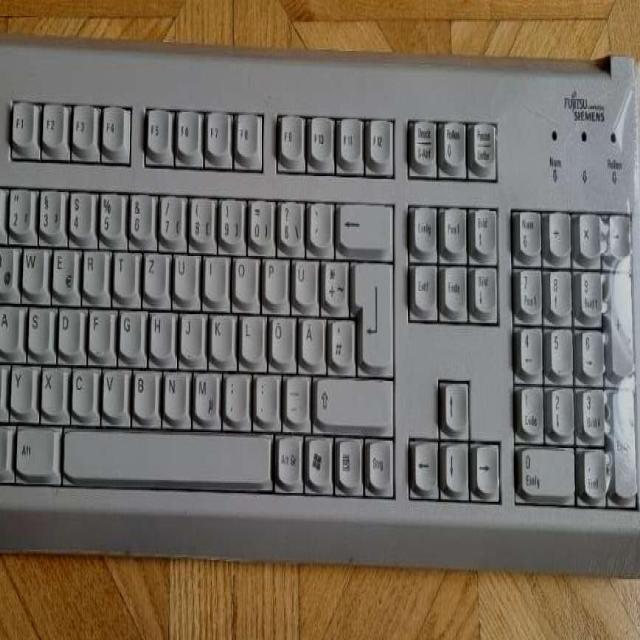0: (247, 193, 272, 246)
1: (0, 182, 13, 231)
2: (7, 183, 32, 233)
3: (37, 185, 62, 236)
4: (67, 186, 92, 237)
5: (97, 188, 122, 237)
6: (127, 188, 152, 239)
7: (157, 189, 183, 242)
8: (187, 191, 213, 245)
9: (217, 194, 243, 245)
a: (0, 300, 18, 349)
accent: (306, 196, 330, 246)
ae: (297, 311, 322, 364)
alt-left: (13, 419, 58, 476)
altgr-right: (273, 429, 301, 483)
b: (131, 364, 156, 416)
c: (69, 362, 94, 413)
caret: (0, 179, 12, 228)
comma: (221, 367, 248, 421)
d: (56, 301, 80, 354)
del: (336, 197, 390, 248)
e: (50, 243, 75, 294)
enter: (350, 253, 391, 368)
f: (87, 303, 111, 354)
g: (117, 304, 142, 355)
h: (147, 305, 172, 355)
hash: (327, 313, 353, 367)
i: (202, 250, 226, 298)
j: (178, 307, 202, 356)
k: (208, 308, 232, 358)
keyboard: (0, 39, 640, 553)
l: (238, 310, 262, 361)
less: (0, 358, 13, 412)
m: (192, 367, 218, 421)
minus: (282, 369, 308, 422)
n: (162, 365, 187, 416)
o: (231, 252, 256, 303)
oe: (268, 310, 293, 362)
p: (261, 253, 285, 301)
plus: (320, 253, 346, 308)
point: (252, 368, 277, 420)
q: (0, 240, 15, 292)
r: (80, 245, 105, 293)
s: (25, 301, 49, 352)
shift-left: (0, 358, 16, 410)
shift-lock: (0, 297, 24, 352)
shift-right: (313, 371, 390, 425)
space: (59, 424, 272, 482)
ss: (276, 195, 301, 247)
strg-left: (0, 416, 22, 473)
strg-right: (363, 434, 392, 492)
t: (112, 246, 136, 295)
tab: (0, 239, 19, 290)
u: (172, 249, 196, 298)
ue: (291, 253, 316, 304)
v: (100, 364, 125, 415)
w: (20, 241, 43, 291)
x: (39, 361, 63, 412)
y: (8, 359, 32, 410)
z: (142, 248, 165, 296)
